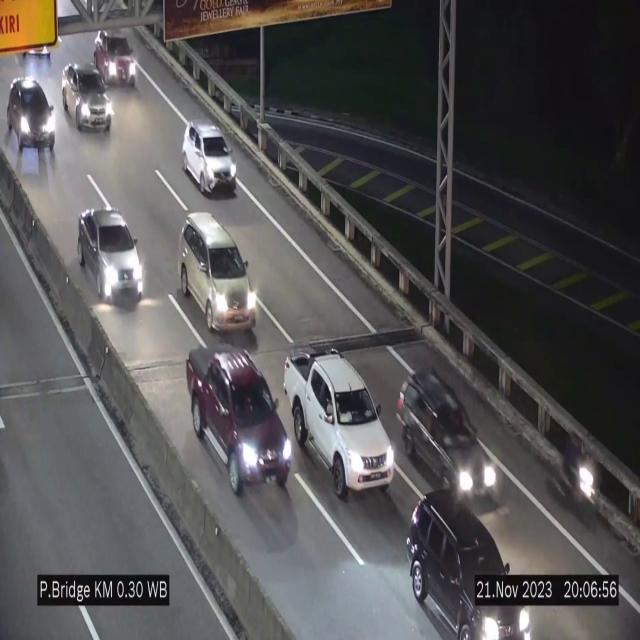Car: (398, 496, 536, 640), (184, 340, 290, 502), (284, 348, 394, 498), (398, 366, 502, 514), (180, 213, 257, 332), (78, 206, 144, 302), (4, 72, 57, 158), (183, 121, 237, 195), (60, 63, 114, 136), (89, 22, 142, 92)
Motorcycle: (554, 428, 596, 526)
